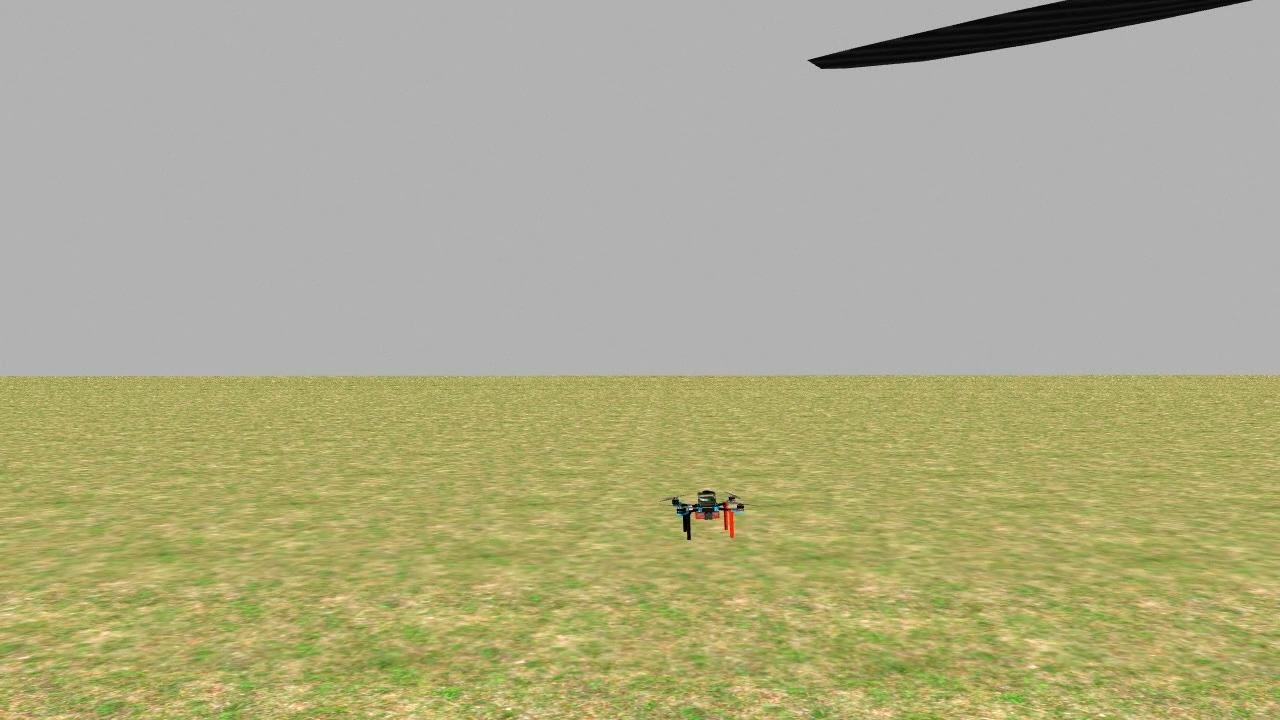UAV: (654, 478, 756, 552)
